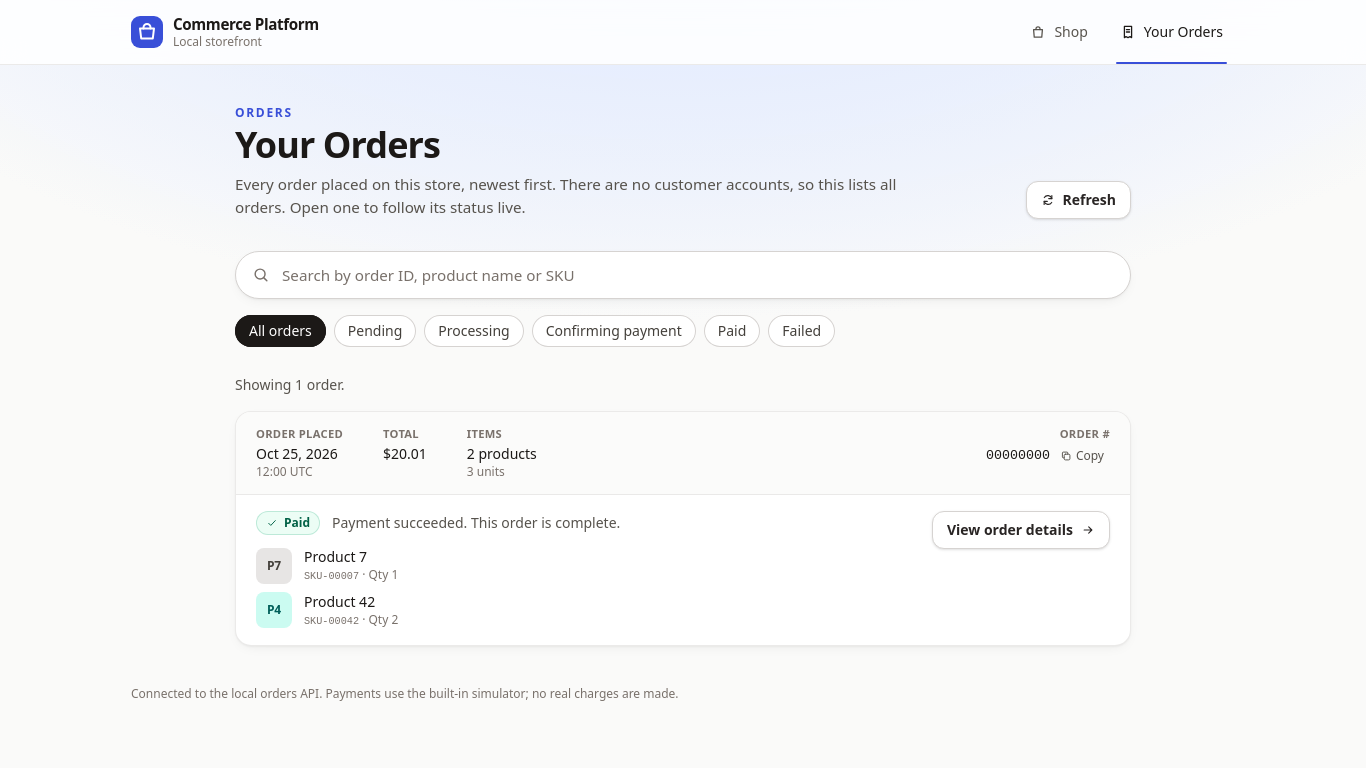
Test: Your Orders: search and filters › explains when the orders API is too old to search or filter
Expected: the list named "Orders" is shown, [235,411,1131,646]
Click the button "Paid": click(732, 331) [704,315,760,347]
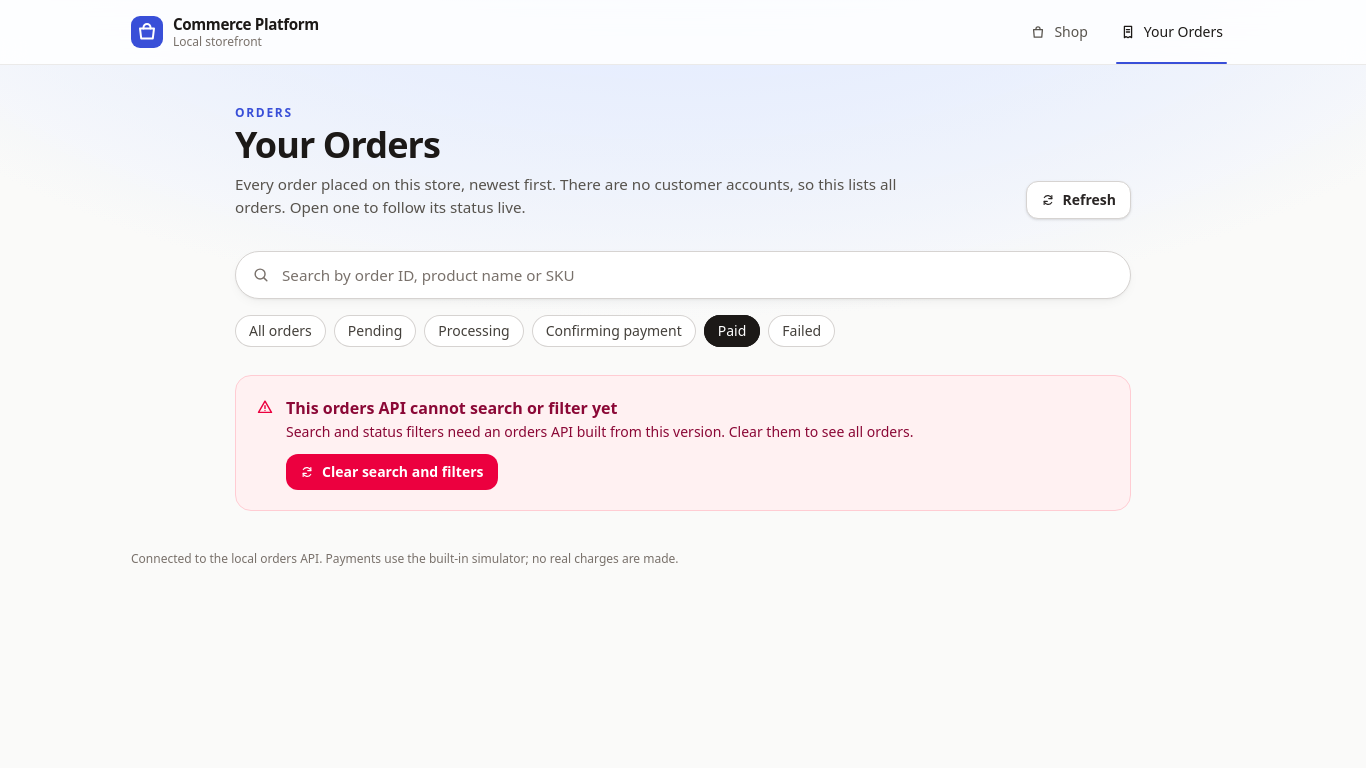
Expected: the text "This orders API cannot search or filter yet" is shown, [286,397,618,419]
Click the button "Clear search and filters": click(392, 472) [286,454,498,490]
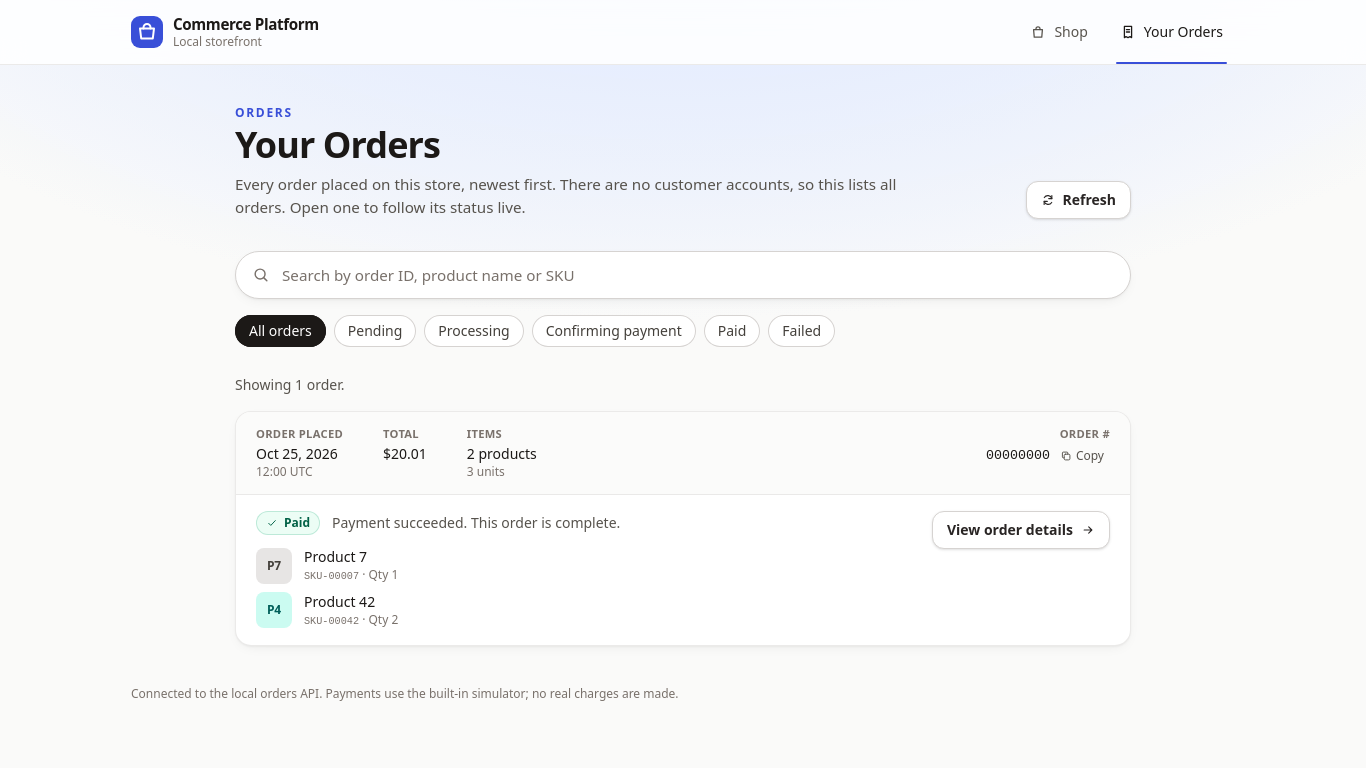
Expected: the list named "Orders" is shown, [235,411,1131,646]
